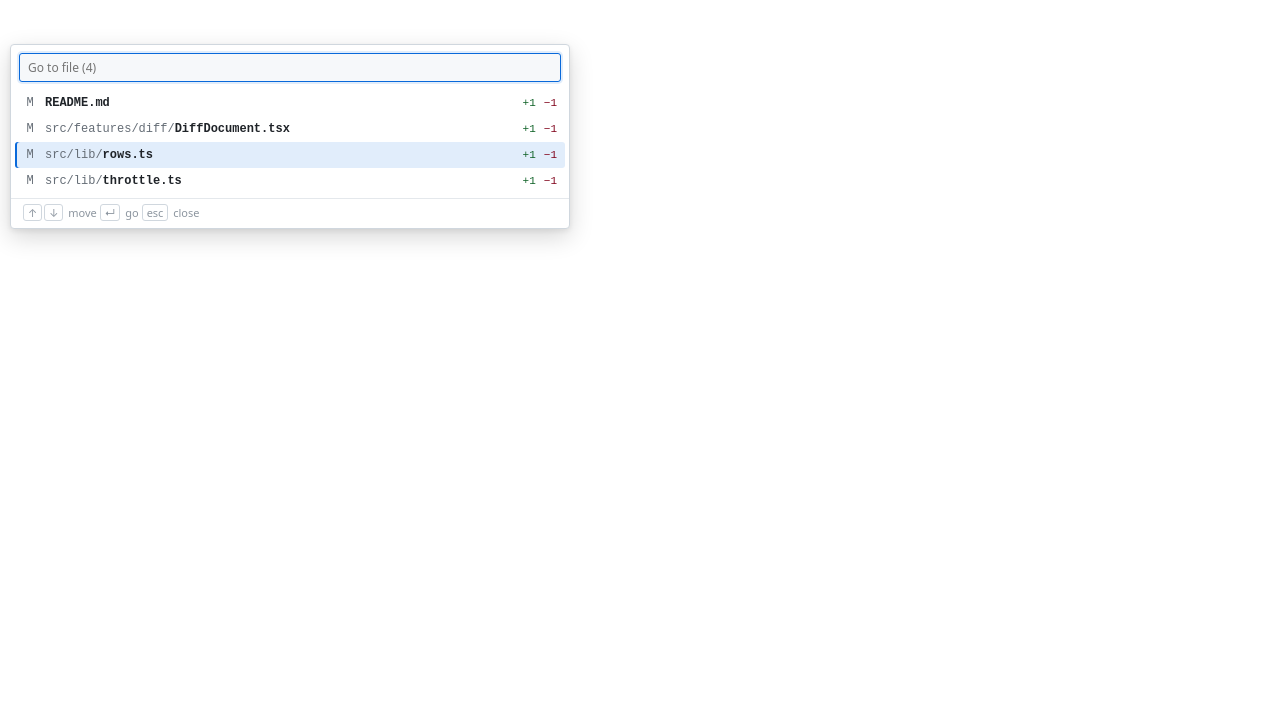
Test: FileNavigator › filters as you type and highlights the best match
README.md can spell "dd" too, but DiffDocument has it as initials.
Type "dd" into the dropdown named "Filter files". click: (290, 68)
box: x1=19 y1=53 x2=561 y2=82
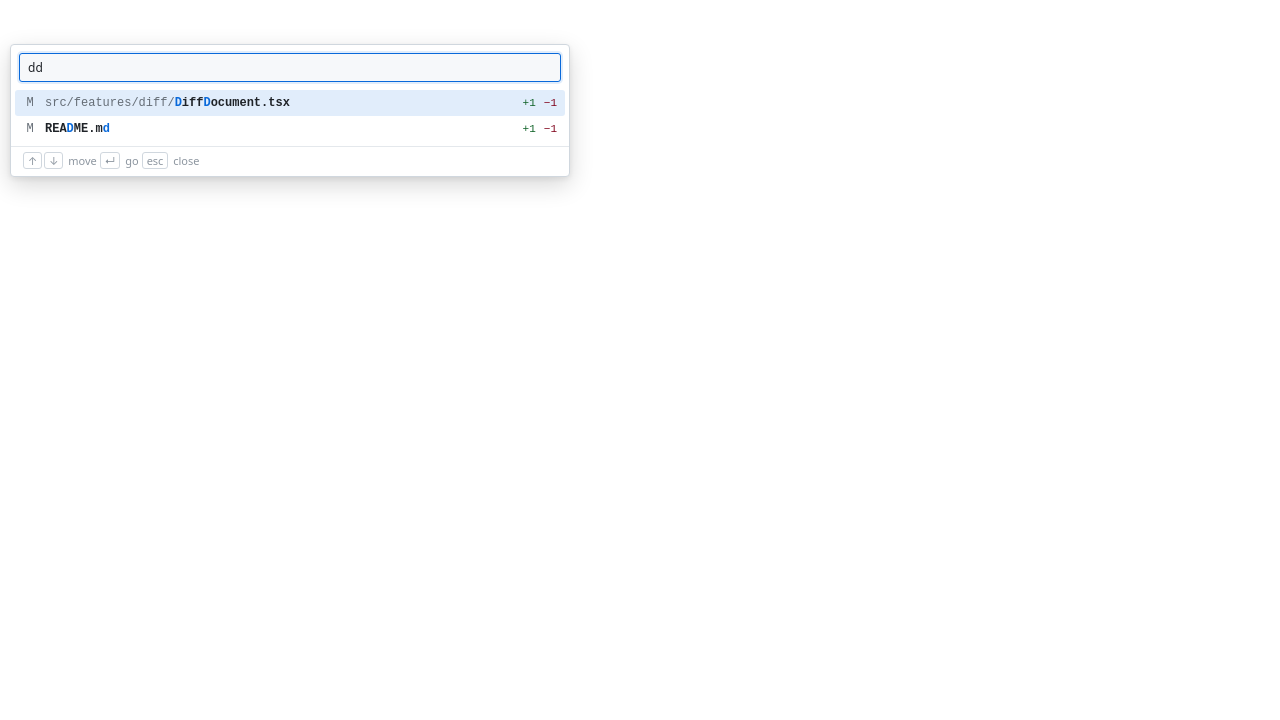
Expected: the option "M src/features/diff/ DiffDocument.tsx +1 −1" is shown, x1=15 y1=90 x2=565 y2=116
Expected: the number of options is 2, x1=15 y1=90 x2=565 y2=116; x1=26 y1=122 x2=557 y2=136
